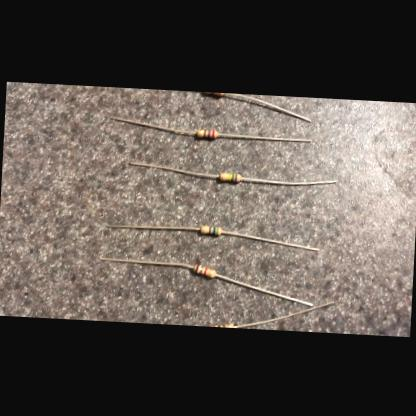resistor: (191, 264, 216, 278), (218, 170, 240, 182), (200, 224, 221, 235), (196, 127, 216, 138), (211, 322, 233, 326), (202, 90, 224, 93)
wire: (234, 294, 334, 332), (216, 272, 314, 304), (224, 92, 312, 120), (221, 230, 320, 250), (108, 115, 196, 133), (130, 160, 218, 176), (242, 173, 336, 185), (100, 256, 194, 268), (107, 221, 199, 230), (218, 132, 312, 140)
